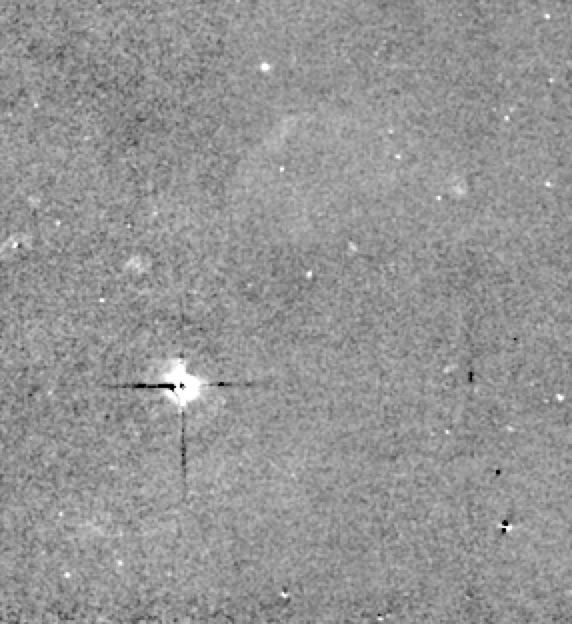Halpha: (197, 97, 344, 277)
